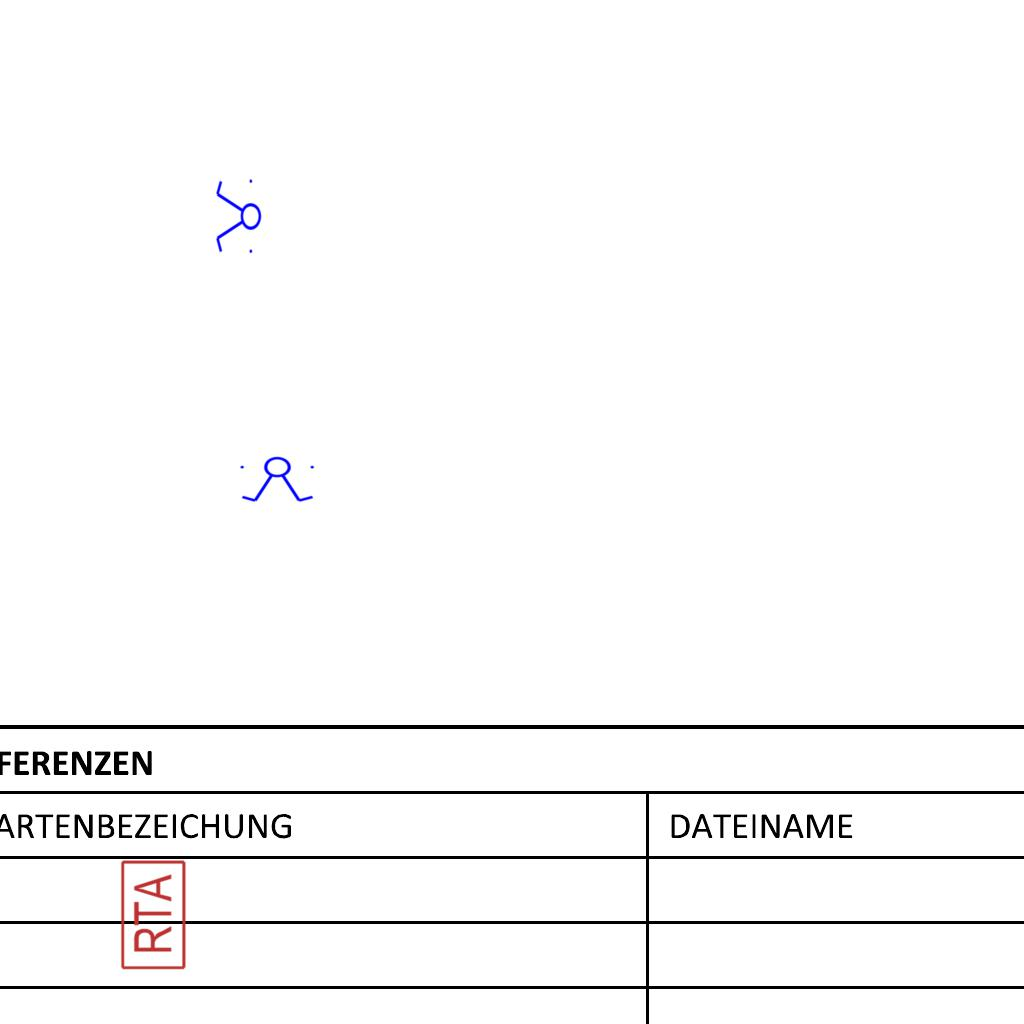Ruf-und_Abstelltaster: (119, 859, 188, 973)
Serienschalter: (214, 175, 262, 259), (236, 456, 320, 504)
